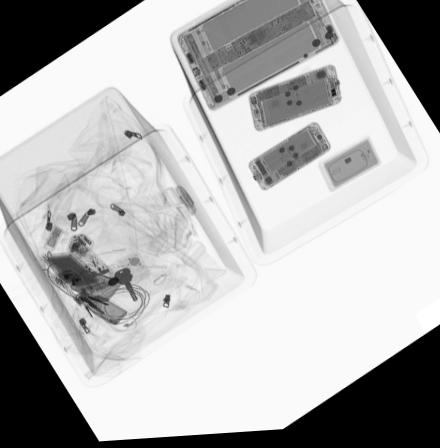Powerbank: (39, 253, 104, 296)
